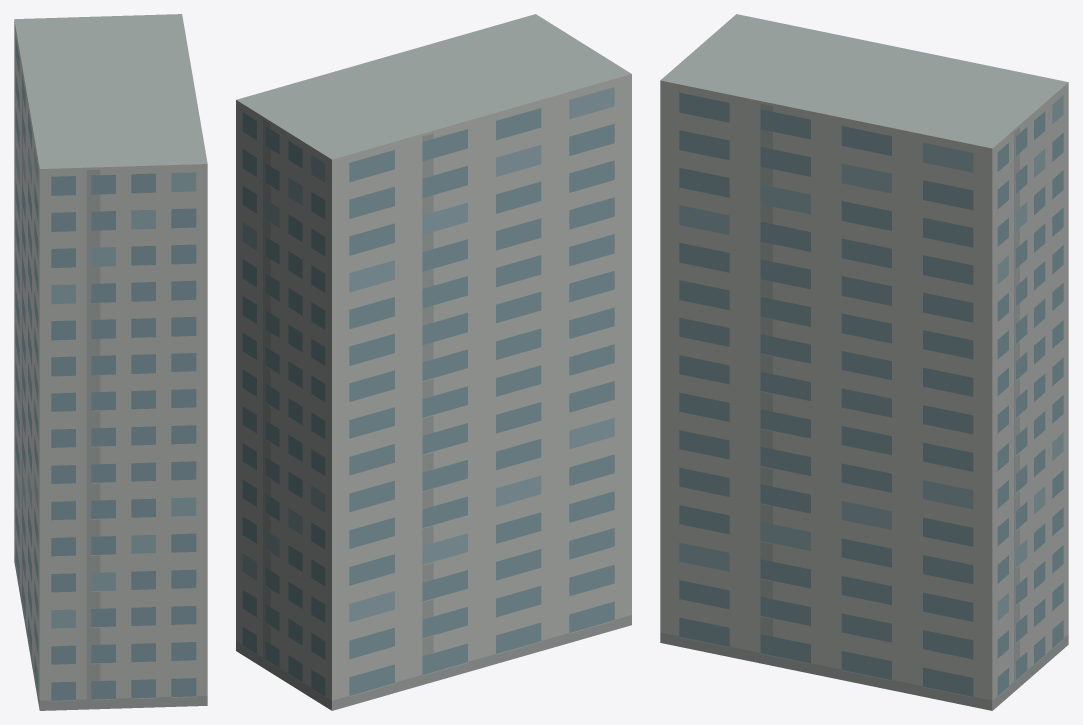
Rendered from residential-a9bcdc10-7914-4f20-8682-0ec897af6b62.glb.
3 renders of one model, left to right at view 1: azimuth 30°, elevation 25°; view 2: azimuth 150°, elevation 25°; view 3: azimuth 270°, elevation 25°, orthographic. The views are drawn at different scales.
Visible parts, largest first — view 1: residential-a9bcdc10-7914-4f20-8682-0ec897af6b62.tmp; view 2: residential-a9bcdc10-7914-4f20-8682-0ec897af6b62.tmp; view 3: residential-a9bcdc10-7914-4f20-8682-0ec897af6b62.tmp.
Boxes of the visible parts, x1,y1,x2,y2 form: residential-a9bcdc10-7914-4f20-8682-0ec897af6b62.tmp: (14,14,207,710); residential-a9bcdc10-7914-4f20-8682-0ec897af6b62.tmp: (236,14,631,710); residential-a9bcdc10-7914-4f20-8682-0ec897af6b62.tmp: (660,14,1068,710).
Size of the model in its own units: 27.2 by 53 by 34.9.
